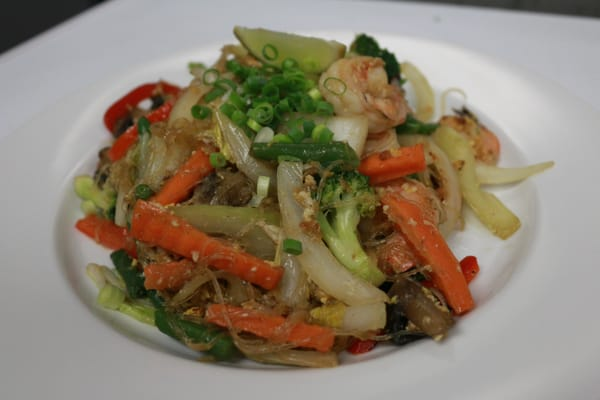curry: (315, 165, 385, 285), (347, 32, 402, 81)
sushi: (14, 6, 599, 389)
